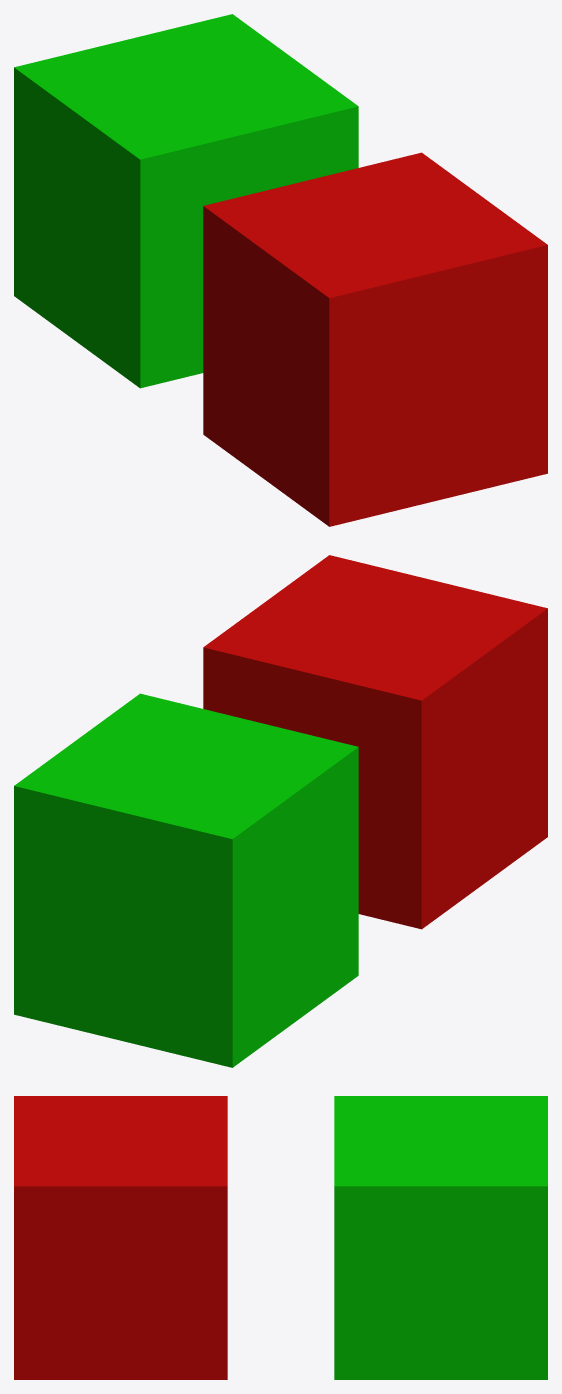
File: cubes.obj
3 renders of one model, top to bottom at view 1: azimuth 30°, elevation 25°; view 2: azimuth 150°, elevation 25°; view 3: azimuth 270°, elevation 25°, orthographic. The views are drawn at different scales.
Visible parts, largest first — view 1: Cube.001, Cube; view 2: Cube, Cube.001; view 3: Cube, Cube.001.
Boxes of the visible parts, x1,y1,x2,y2 form: Cube.001: (203, 152, 547, 526); Cube: (14, 14, 358, 388); Cube: (14, 693, 358, 1067); Cube.001: (203, 555, 547, 929); Cube: (334, 1096, 547, 1379); Cube.001: (14, 1096, 227, 1379).
Bounding box in the file's own units: 2 × 2 × 5.
